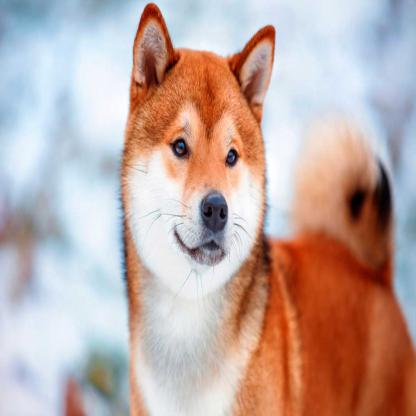Siba-ny: (118, 1, 415, 415)
